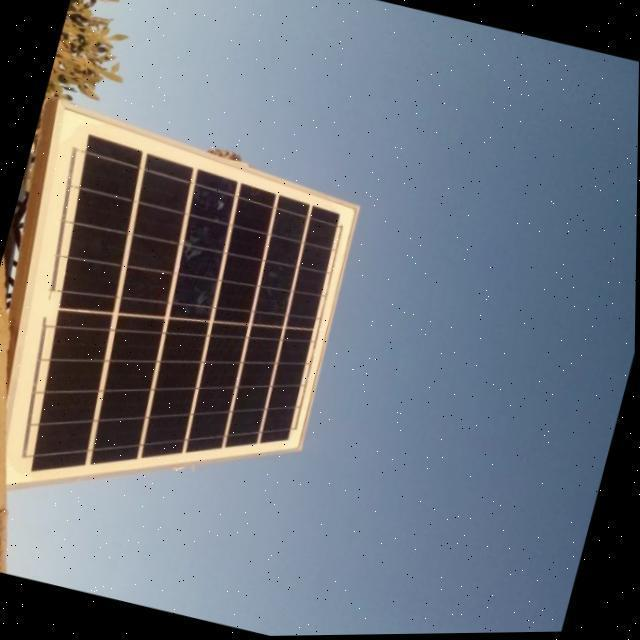Normal Solar Panel: (0, 98, 377, 552)
